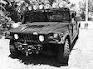car: (8, 5, 85, 69)
